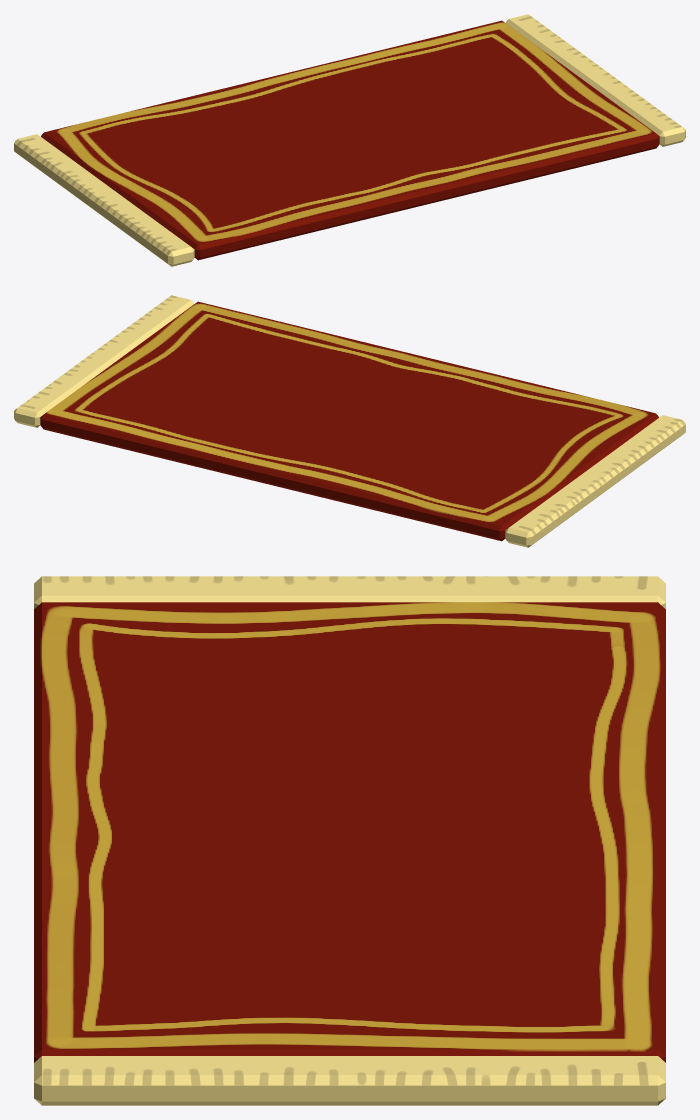
Rendered from rug.glb.
3 views of the same model, one above another, from view 1: azimuth 30°, elevation 25°; view 2: azimuth 150°, elevation 25°; view 3: azimuth 270°, elevation 25° (orthographic). The views are drawn at different scales.
Parts seen in each view (by area): view 1: Rug, Tassle1, Tassle2; view 2: Rug, Tassle1, Tassle2; view 3: Rug, Tassle2, Tassle1.
Part boxes in pixels (<box>): Rug: <box>41,20,659,260</box>; Tassle1: <box>14,134,194,266</box>; Tassle2: <box>506,14,685,146</box>; Rug: <box>40,301,658,541</box>; Tassle1: <box>505,415,685,547</box>; Tassle2: <box>14,295,193,427</box>; Rug: <box>34,602,665,1062</box>; Tassle2: <box>34,1056,665,1105</box>; Tassle1: <box>34,576,665,608</box>.
Size of the model in its own units: 14.93 by 0.419 by 7.89.
2 materials, 2 textured.
